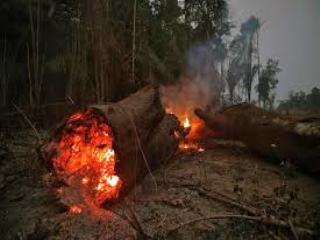fire: (38, 106, 129, 213), (156, 86, 206, 154)
smoke: (177, 59, 227, 114)
